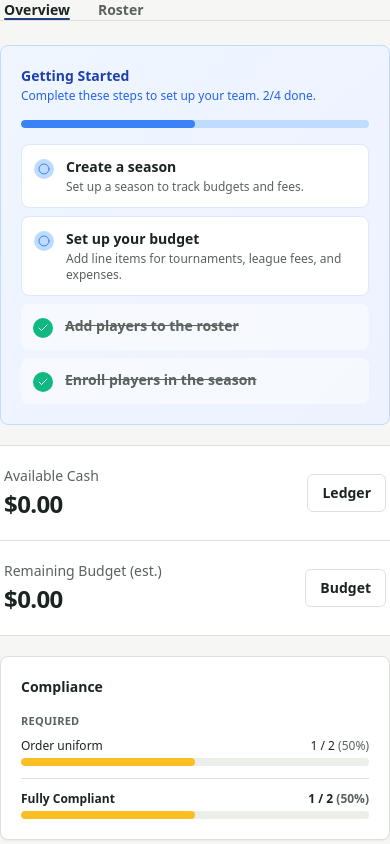
Test: TeamOverviewView › renders the roster tab without throwing on an unbound icon
Click the tab "Roster". click: (121, 10)
box: [86,0,156,20]
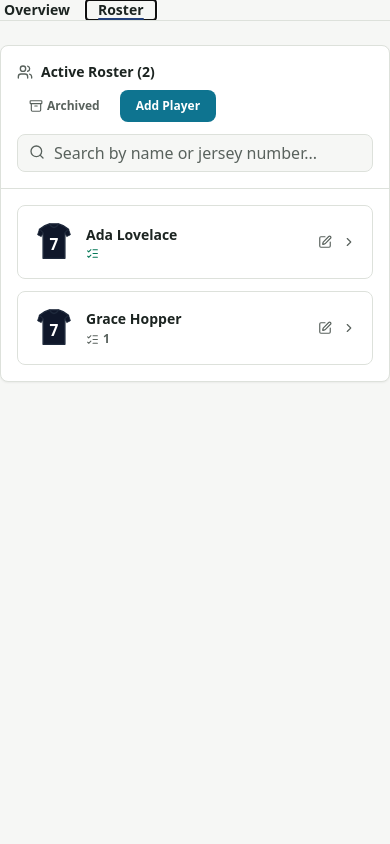
Result: the text "Ada Lovelace" is shown at [86,224,177,244]
Result: the text "Grace Hopper" is shown at [86,309,182,328]
